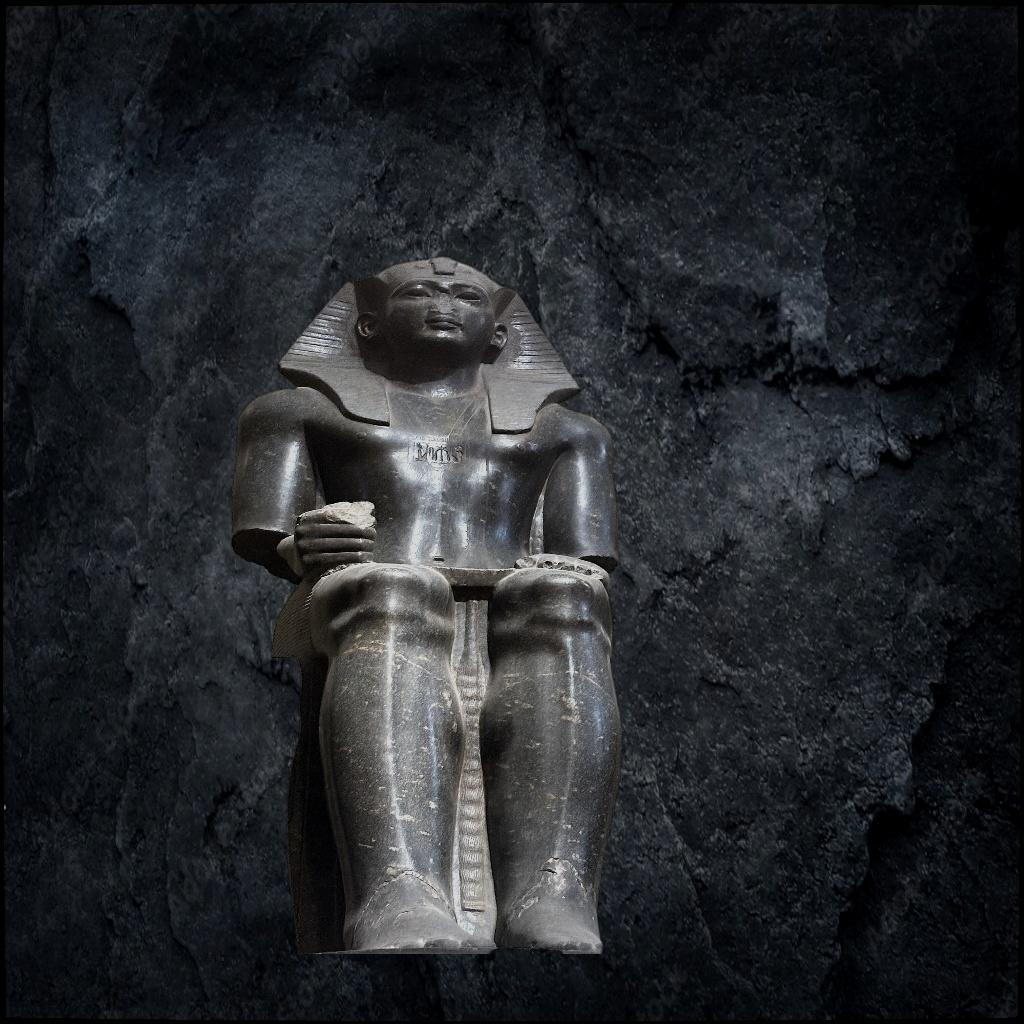Seated Statue of Ramesses II: (226, 252, 633, 954)
